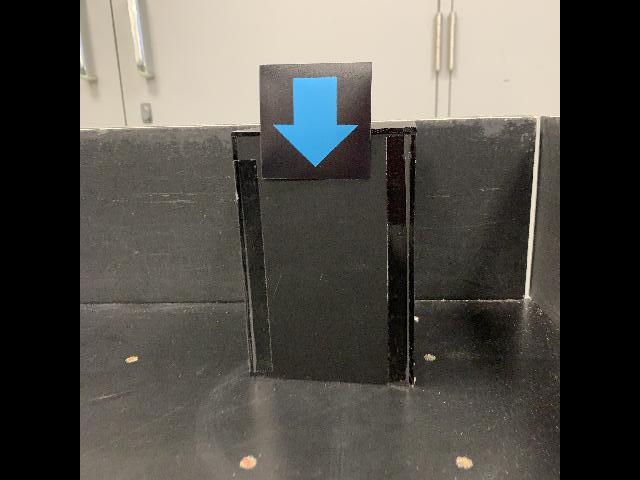down: (257, 61, 373, 181)
